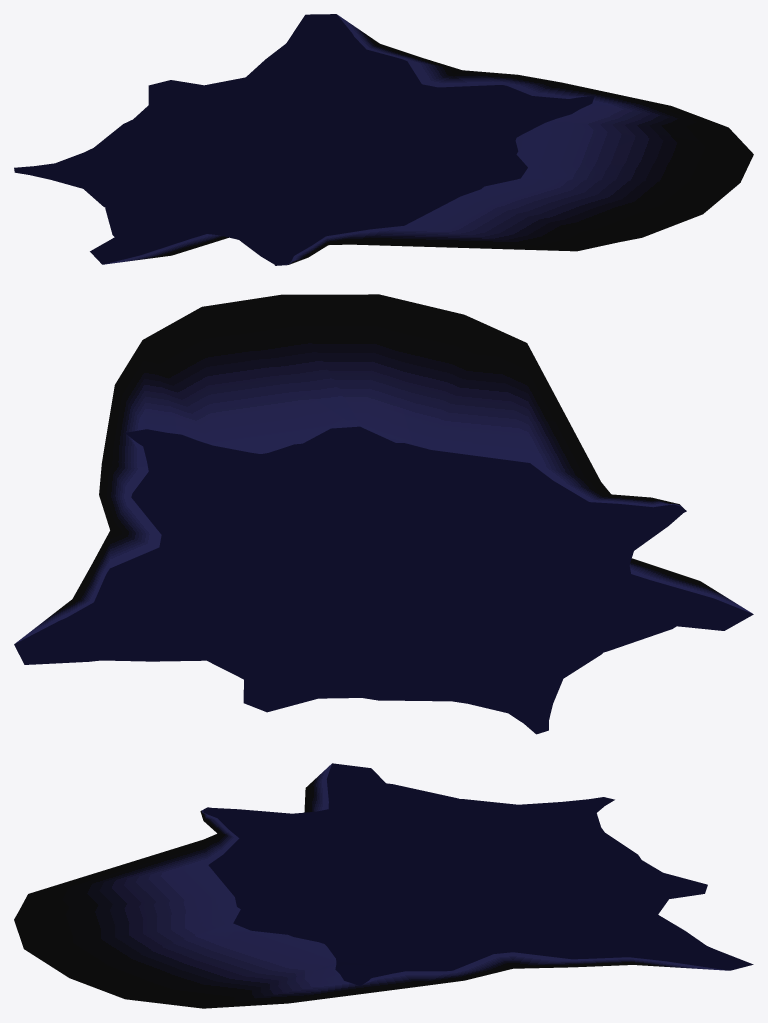
3 views of the same model, one above another, from view 1: azimuth 30°, elevation 25°; view 2: azimuth 150°, elevation 25°; view 3: azimuth 270°, elevation 25° (orthographic). The views are drawn at different scales.
Visible parts, largest first — view 1: Joint_0_Object_0; view 2: Joint_0_Object_0; view 3: Joint_0_Object_0.
Part boxes in pixels (box(x1,y1,x2,y2)): Joint_0_Object_0: box(14, 14, 753, 265); Joint_0_Object_0: box(14, 294, 753, 734); Joint_0_Object_0: box(14, 763, 753, 1008).
Bounding box in the file's own units: 1783 × 180 × 1912.
Materials: 1 (1 with a texture image).
